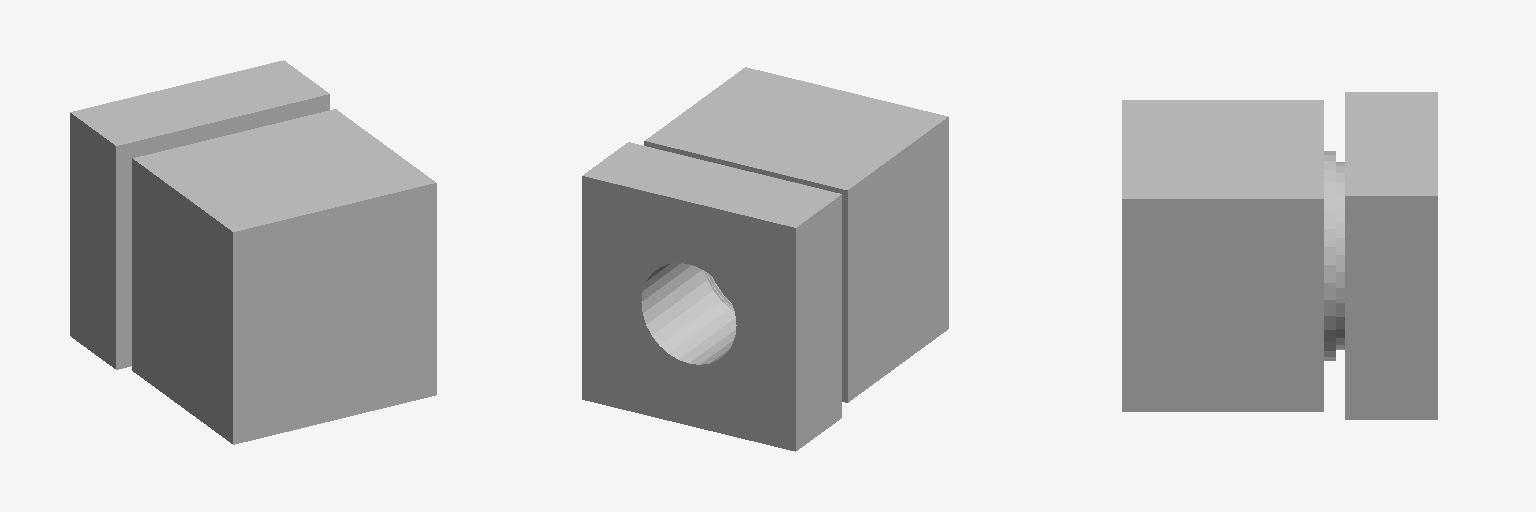
File: Experimental XY stage with hole for camera v9.obj
3 renders of one model, left to right at view 1: azimuth 30°, elevation 25°; view 2: azimuth 150°, elevation 25°; view 3: azimuth 270°, elevation 25°, orthographic.
Parts seen in each view (by area): view 1: Body1, Body2; view 2: Body2, Body1; view 3: Body1, Body2.
Part boxes in pixels (x1,y1,x2,y2): Body1: (132, 109, 436, 444); Body2: (70, 60, 329, 369); Body2: (582, 142, 841, 451); Body1: (644, 67, 948, 402); Body1: (1122, 100, 1344, 411); Body2: (1345, 92, 1437, 419).
Bounding box in the file's own units: 4 × 4 × 5.12.